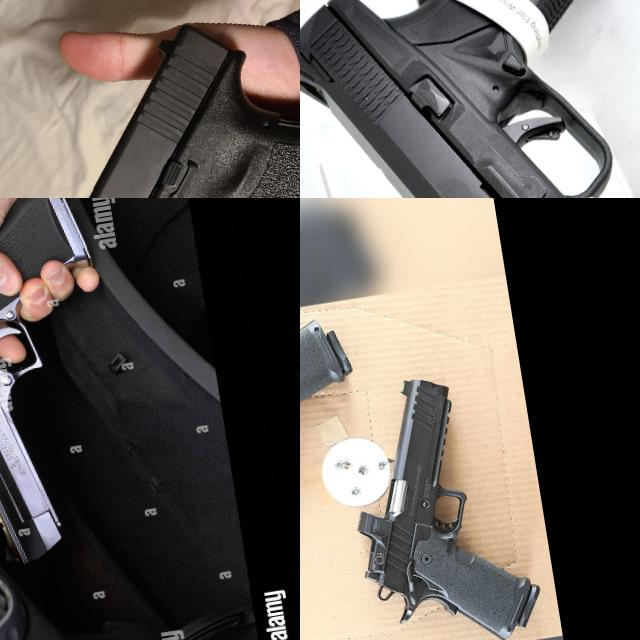handgun: (300, 0, 640, 198), (329, 360, 552, 640), (0, 0, 300, 198), (0, 198, 142, 586), (300, 311, 414, 574)
